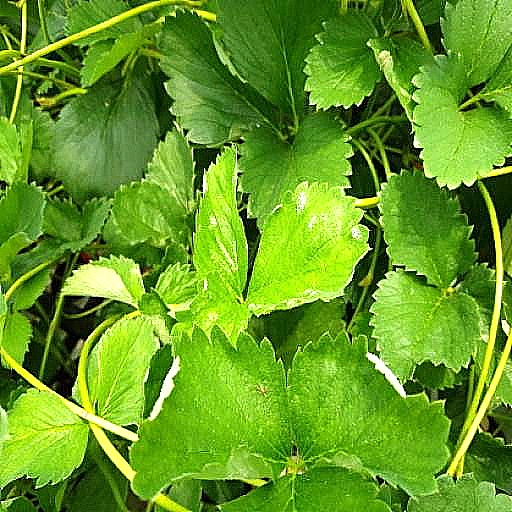Powdery Mildew Leaf: (128, 323, 292, 501), (288, 330, 452, 500), (245, 180, 373, 317), (193, 143, 249, 295), (167, 272, 253, 348), (58, 254, 146, 307)
